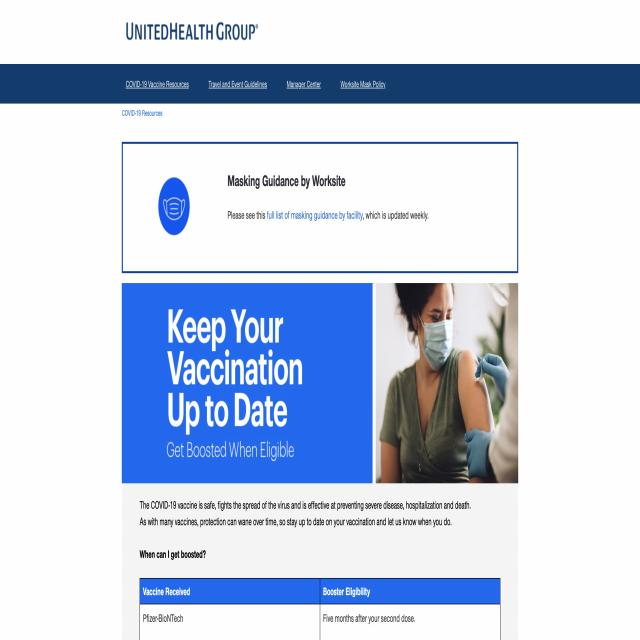Logo: (122, 9, 260, 54)
Navigation: (120, 65, 403, 98)
